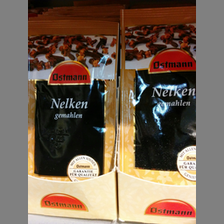spices: (28, 17, 120, 181), (121, 6, 195, 184)
